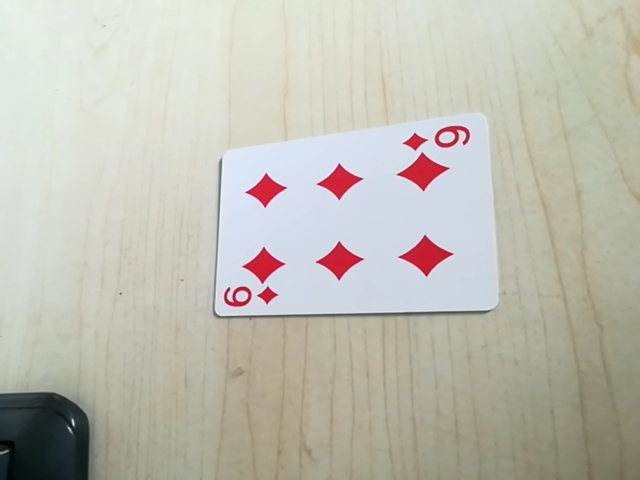fk 6: (400, 120, 474, 156), (221, 283, 282, 314)
